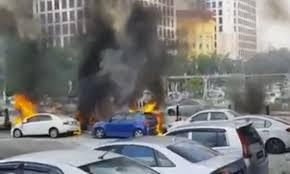fire: (129, 98, 166, 133), (6, 90, 39, 127)
